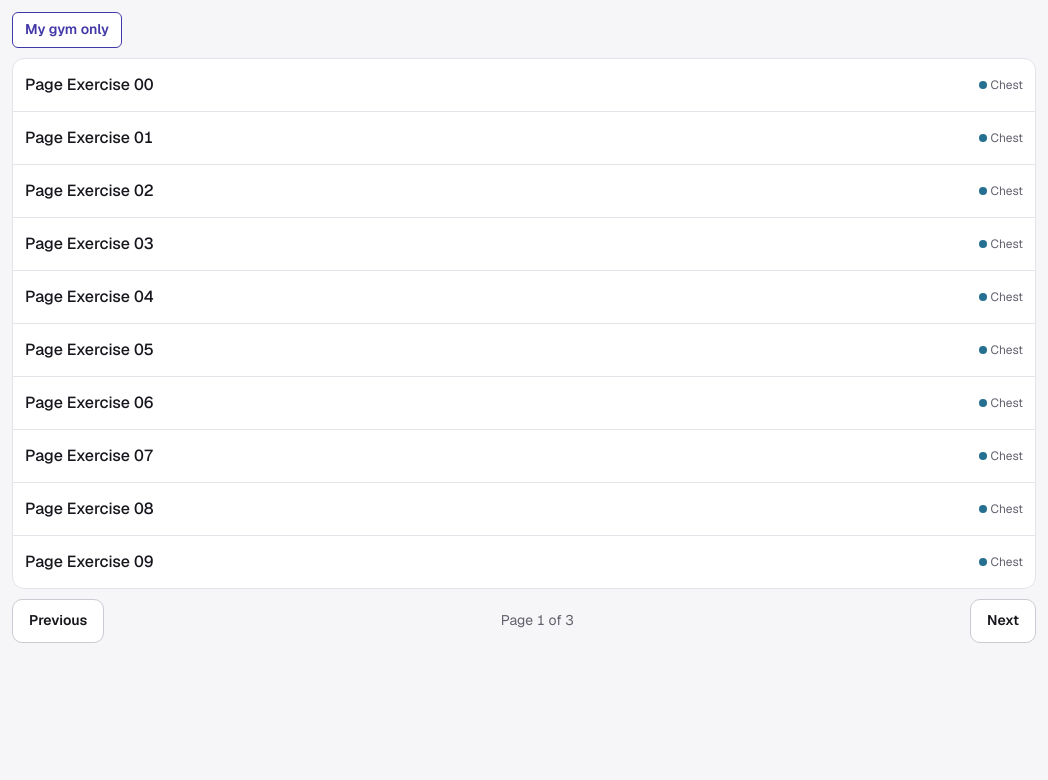
Test: O17 given the page-1 list, pressing Next twice shows rows 21-25 and "Page 3 of 3" with Next disabled
The width and height of the screenshot is (1048, 780).
Click the button "Next" at {"x": 1003, "y": 621}, box [970, 599, 1036, 643]
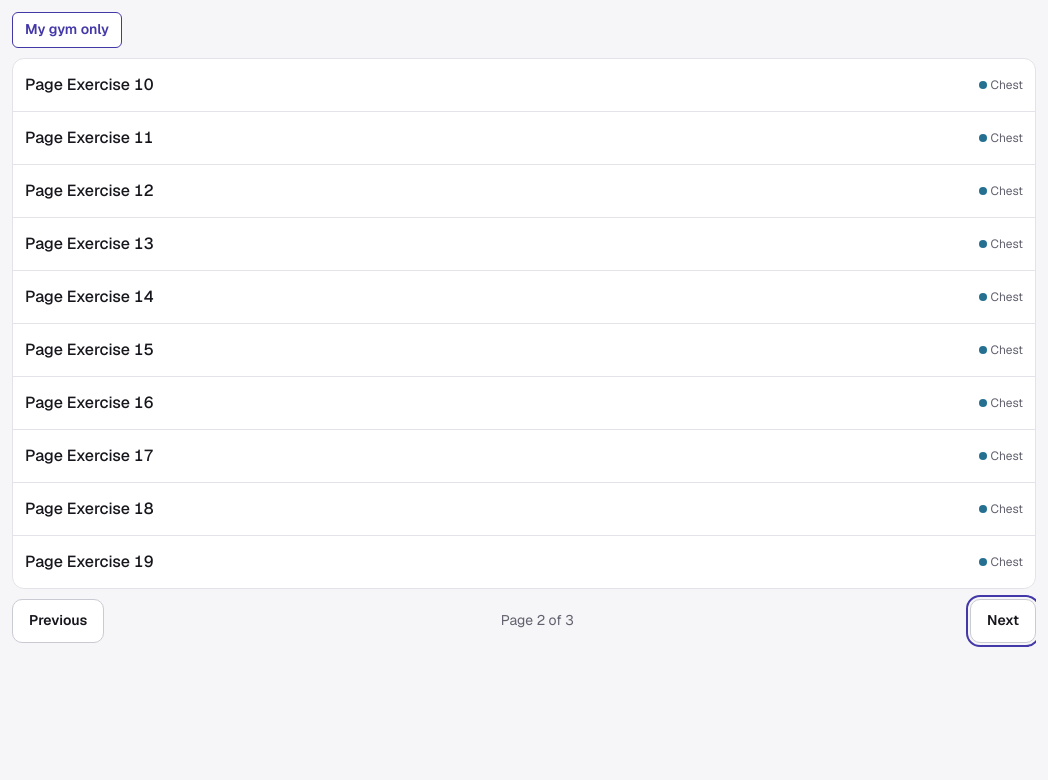
Click the button "Next" at {"x": 1003, "y": 621}, box [970, 599, 1036, 643]
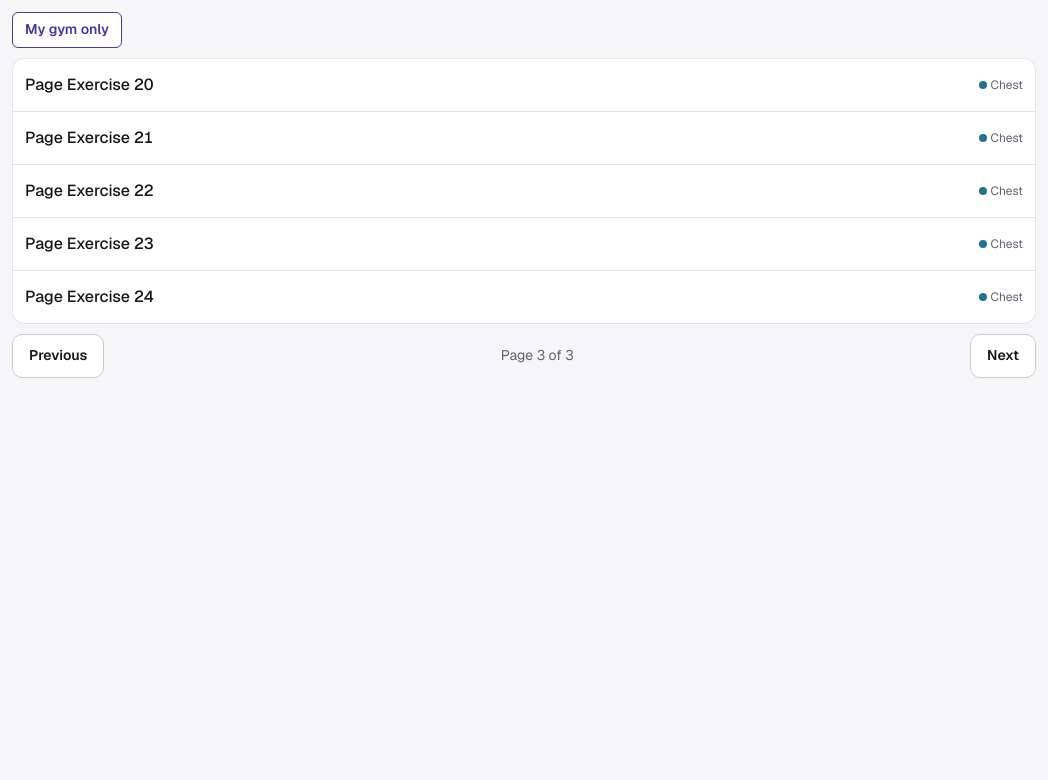
Now the text "Page 3 of 3" is shown, box [501, 346, 574, 366]
Now the button "Next" is disabled, box [970, 334, 1036, 378]
